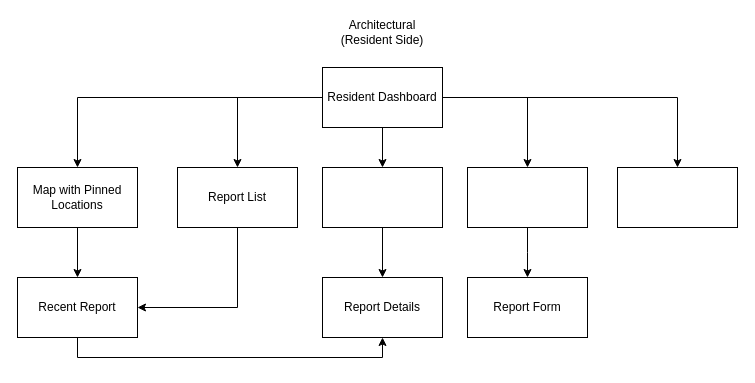
Image size: 755x383. Some labels were removed from this diagram. The centre of each missing label's shape, as x and y in pixels:
"File New Report" goes at [527,197].
"Logout" goes at [677,197].
"View Reports" goes at [382,197].
